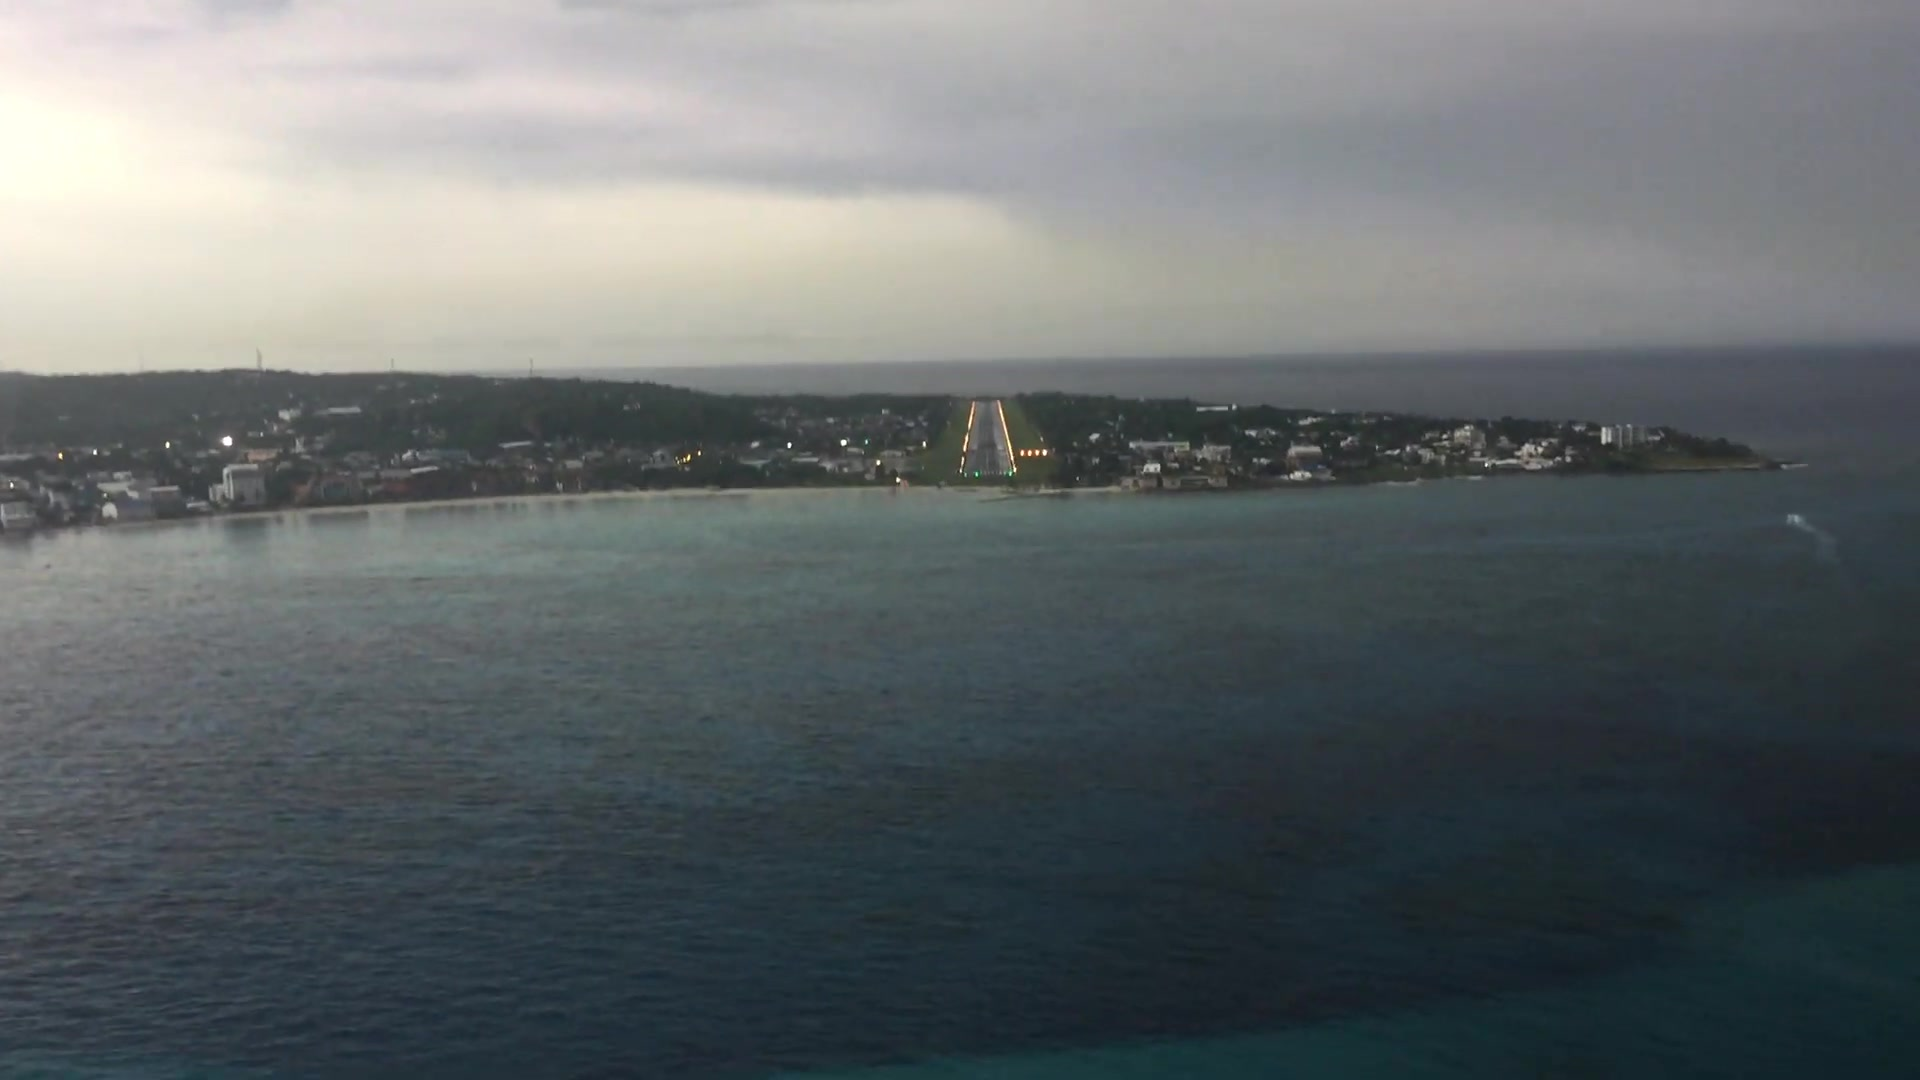runway: (957, 398, 1019, 481)
